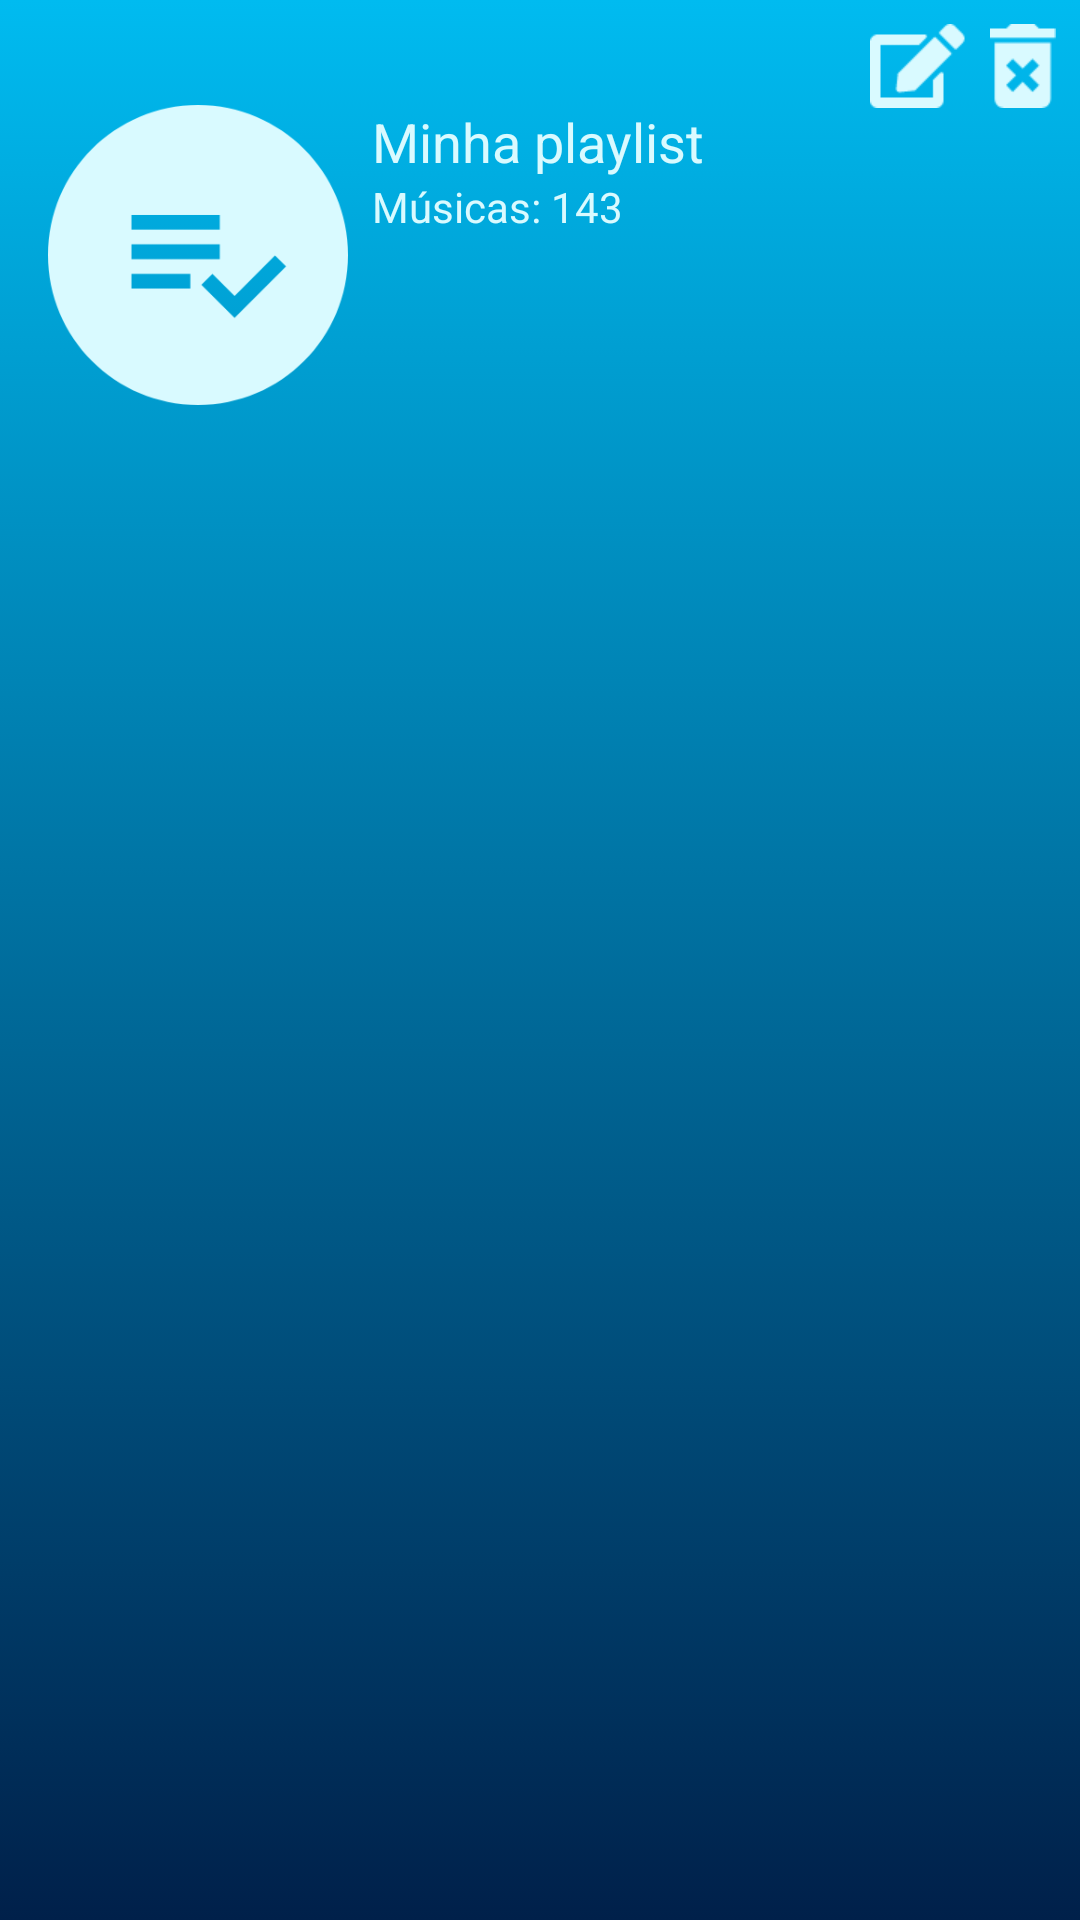

Icons on this 1080px x 1920px Android screen, each with its box as bbox(x1, y1, x2, y2):
playlist delete: bbox(990, 24, 1056, 108)
playlist edit: bbox(870, 24, 965, 108)
